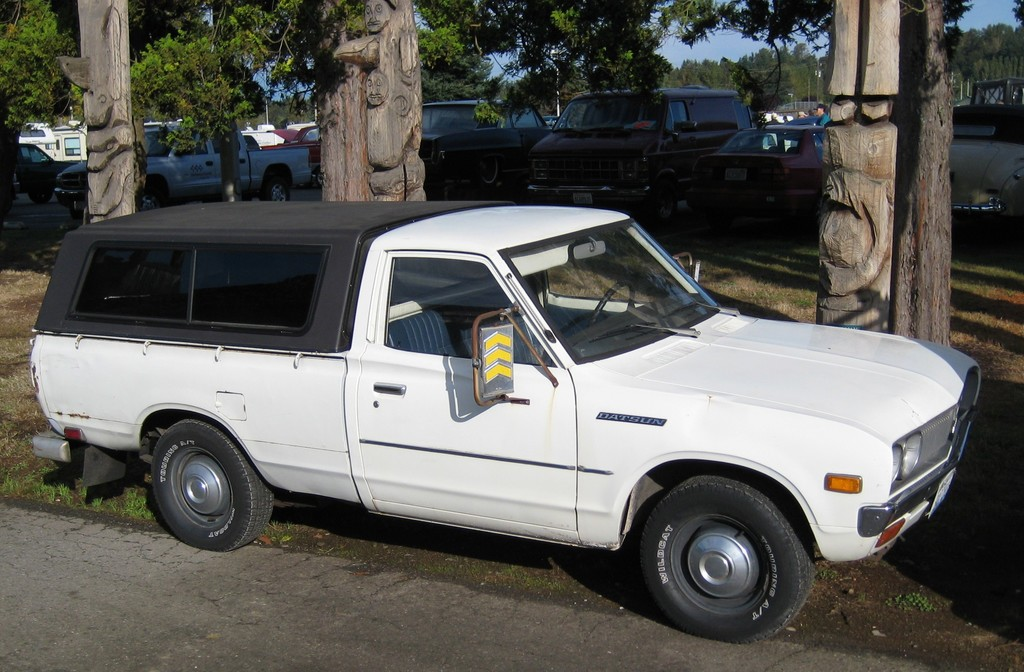Car: (0, 83, 1023, 645)
